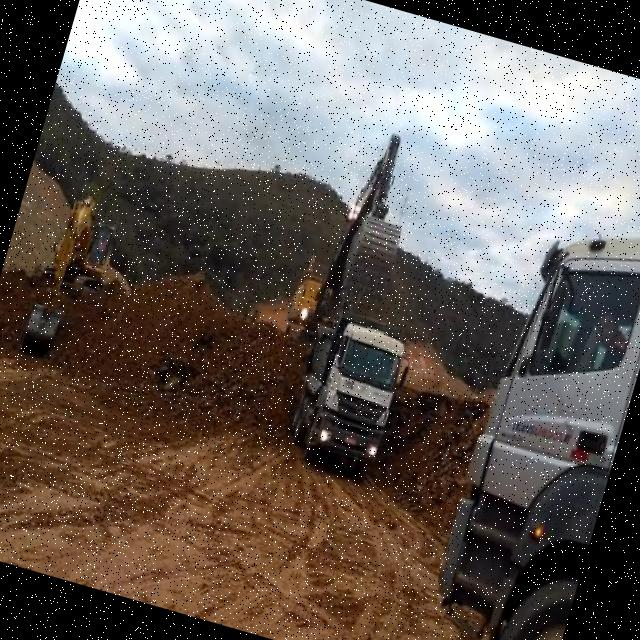Dump Truck: (404, 190, 640, 640), (275, 302, 421, 482)
Excavator: (280, 112, 430, 360), (10, 184, 126, 367)
